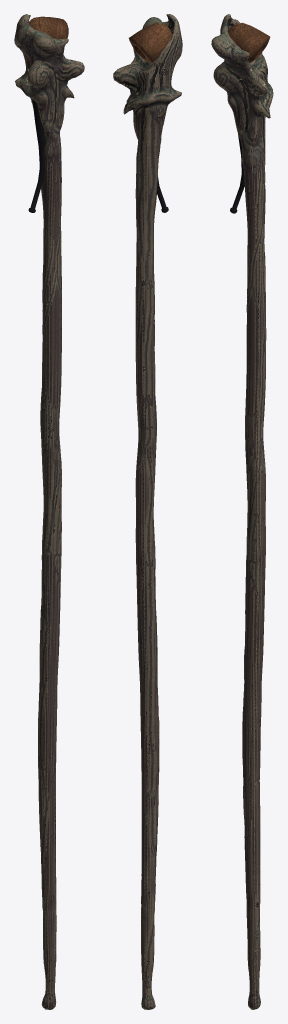
The model's file is gandalfs_staff_sized.glb.
The picture shows the model from 3 angles, left to right: view 1: azimuth 30°, elevation 25°; view 2: azimuth 210°, elevation 25°; view 3: azimuth 330°, elevation 25°; orthographic projection.
Visible parts, largest first — view 1: Object_3; view 2: Object_3; view 3: Object_3.
Boxes of the visible parts, <box> form: Object_3: <box>14,14,84,1009</box>; Object_3: <box>113,14,182,1009</box>; Object_3: <box>211,14,273,1009</box>.
Bounding box in the file's own units: 0.1051 × 1.76 × 0.0962.
1 material, 1 textured.
